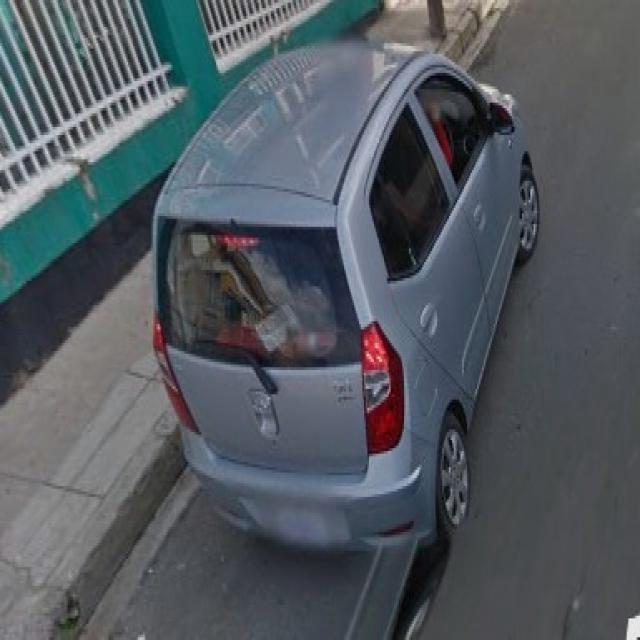Car: (148, 45, 534, 568)
